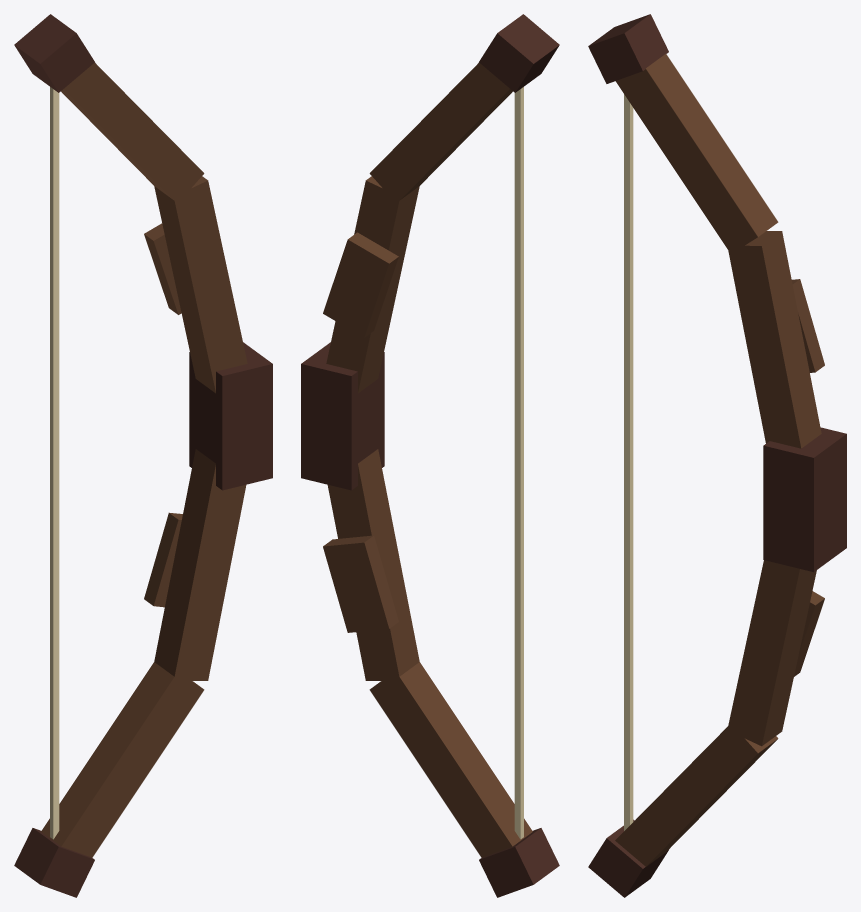
File: short_bow.glb
The picture shows the model from 3 angles, left to right: view 1: azimuth 30°, elevation 25°; view 2: azimuth 150°, elevation 25°; view 3: azimuth 330°, elevation 25°; orthographic projection.
Parts seen in each view (by area): view 1: short_bow; view 2: short_bow; view 3: short_bow.
Boxes of the visible parts, x1,y1,x2,y2 form: short_bow: (14,14,272,897); short_bow: (301,14,559,897); short_bow: (588,14,846,897).
Bounding box in the file's own units: 1.09 × 3.93 × 0.304.
